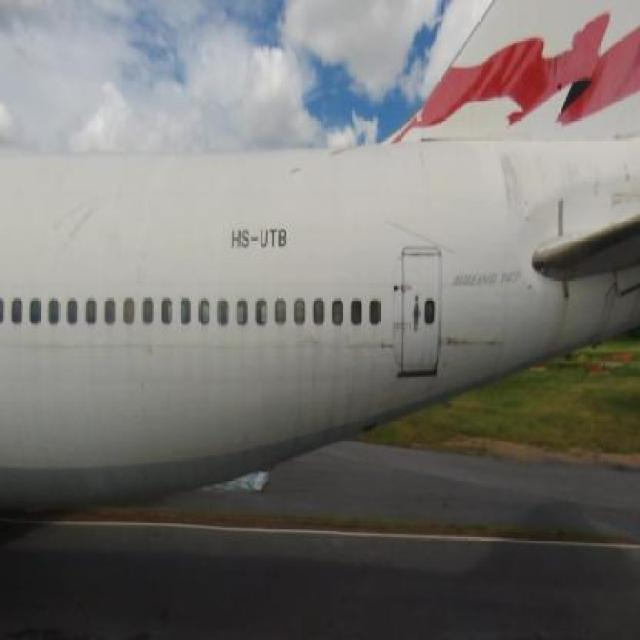Scartch: (47, 181, 99, 259), (495, 148, 534, 215), (442, 326, 506, 356), (344, 335, 401, 359)
